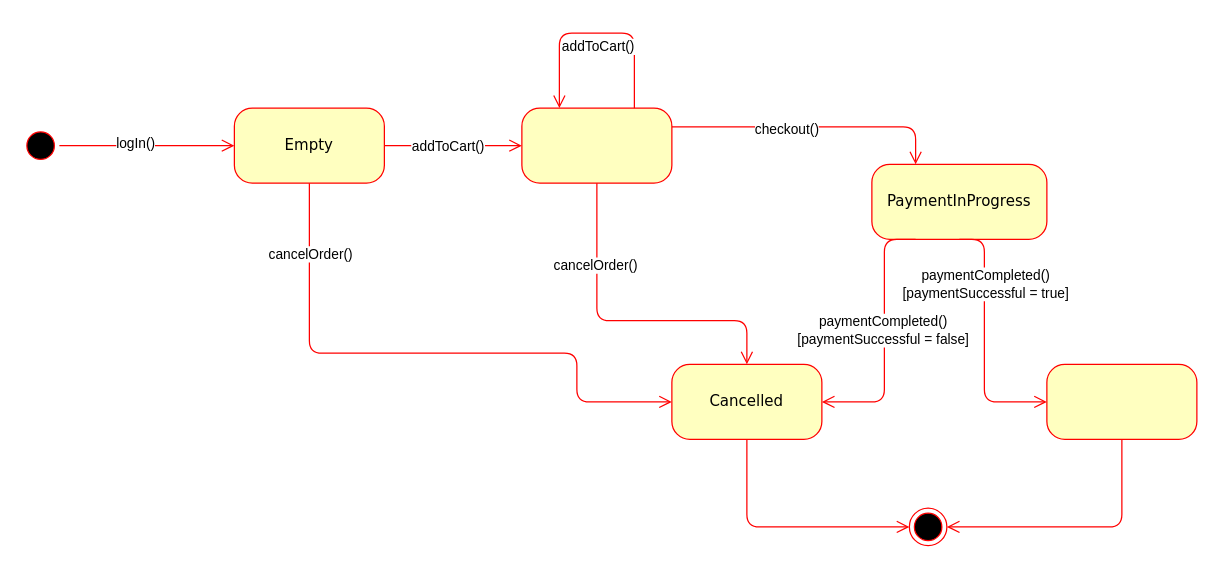
Some shapes in this 1219 by 568 pixel diagram are drawn without their labels. The box of each missing label's shape, as (x1, y1, x2, y2) in pixels:
Completed: (1046, 363, 1197, 439)
InProgress: (521, 107, 672, 183)
